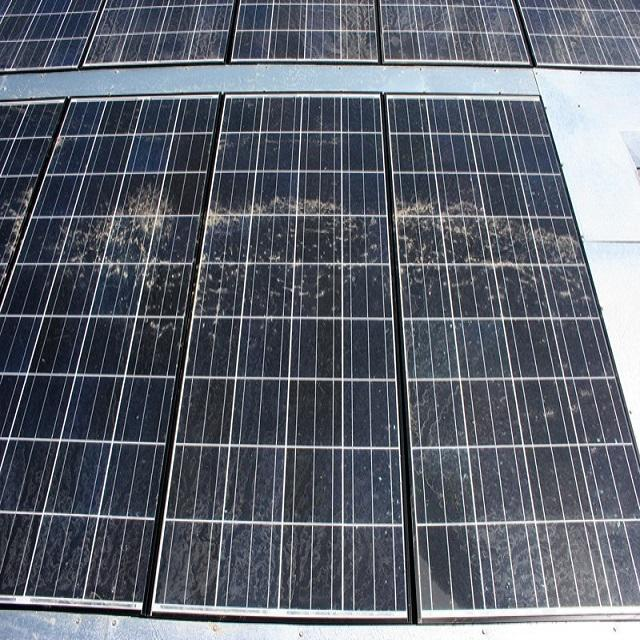faulty: (0, 100, 640, 630), (11, 0, 640, 70)
